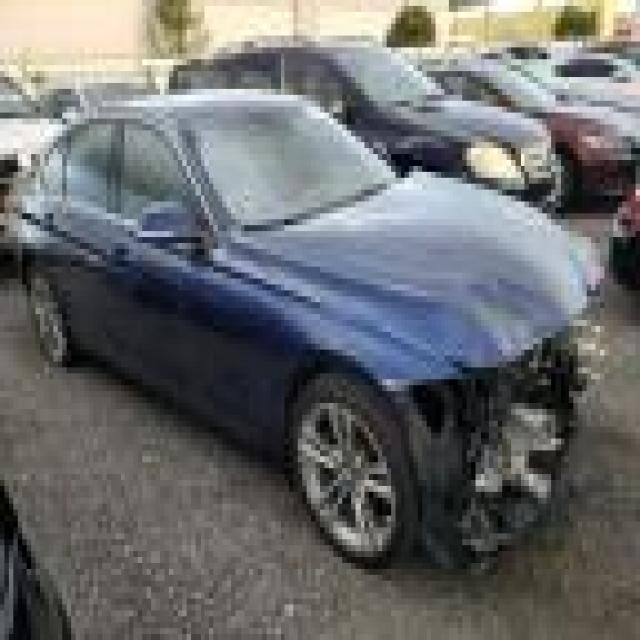moderate: (398, 327, 611, 575)
